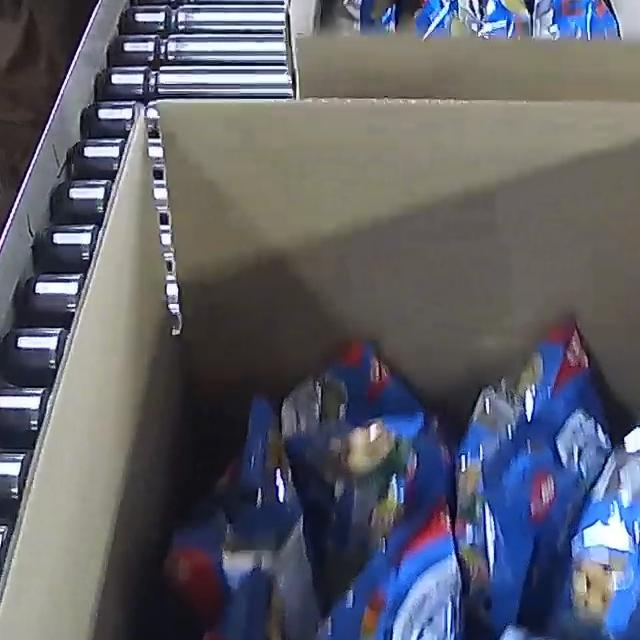paprika: (66, 317, 640, 640)
